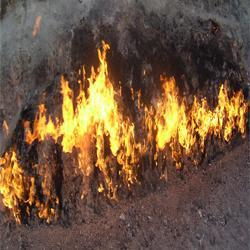fire: (159, 93, 250, 135), (63, 76, 119, 133), (1, 164, 19, 204)
